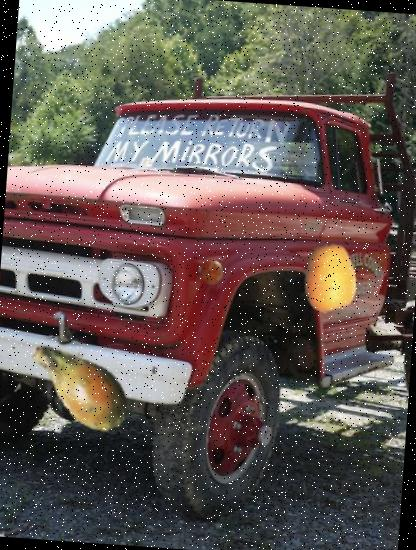Cactus: (19, 320, 143, 444)
Kumquats: (292, 241, 367, 316)
